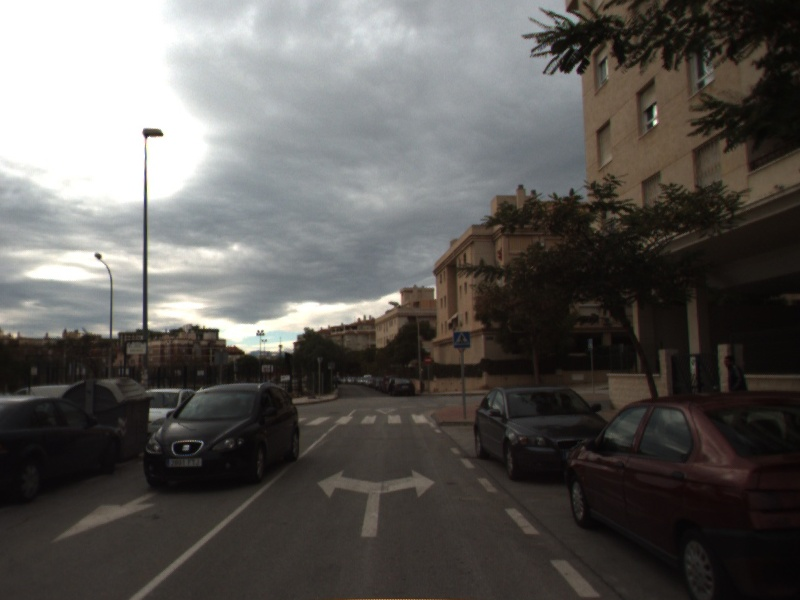LEFT_RIGHT: (314, 467, 438, 540)
